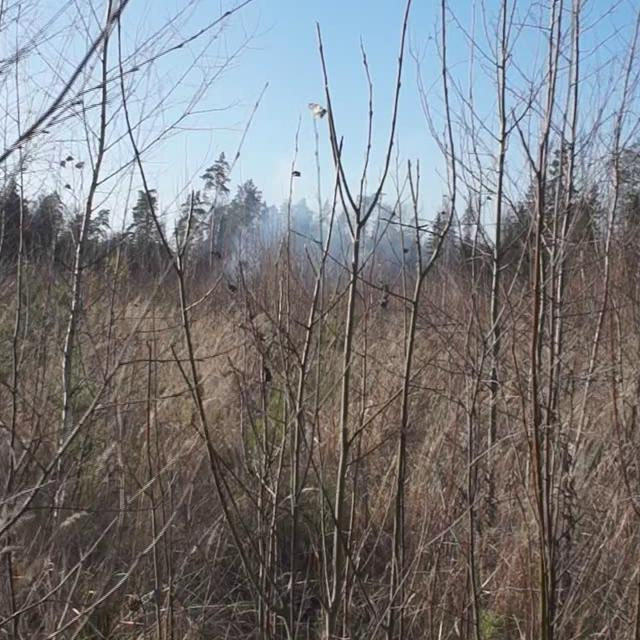Smoke: (205, 195, 423, 292)
